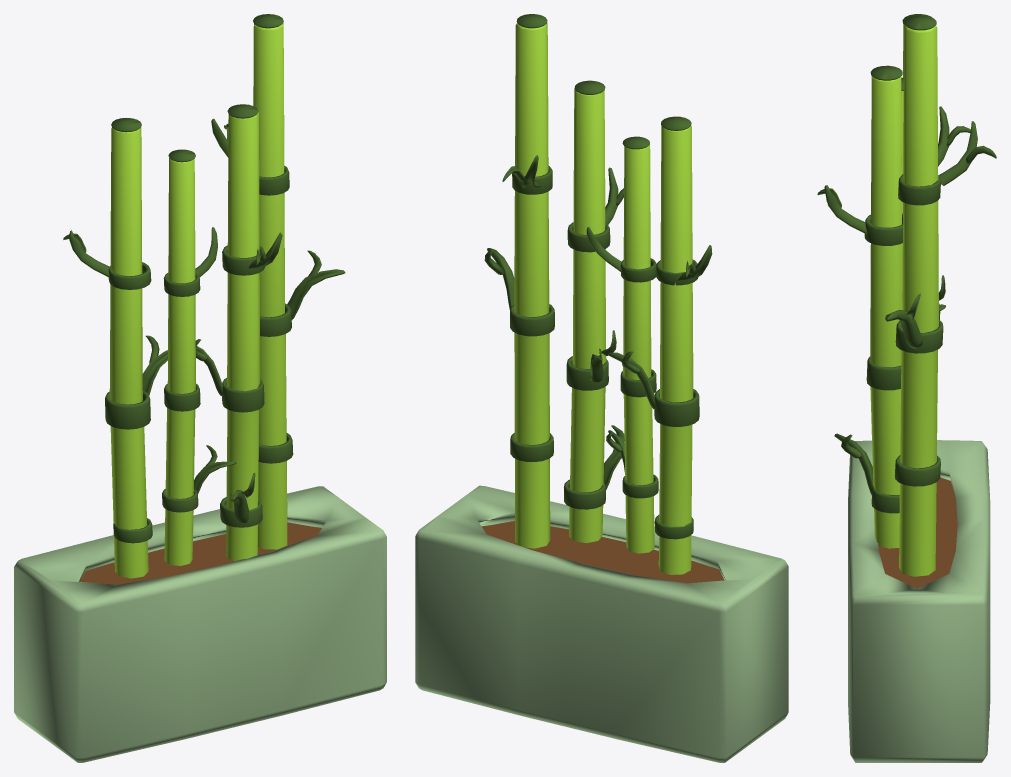
Rendered from SM_Bamboo_low.fbx.
3 renders of one model, left to right at view 1: azimuth 30°, elevation 25°; view 2: azimuth 150°, elevation 25°; view 3: azimuth 270°, elevation 25°, orthographic. The views are drawn at different scales.
Visible parts, largest first — view 1: Cube.011, Cylinder.019, Cylinder.025, Cylinder.031, Cylinder.002, Cylinder.030, Cylinder.018, Cylinder.001, Cylinder.024, Plane.031, Cylinder.006, Cylinder.010 (+7 smaller); view 2: Cube.011, Cylinder.031, Cylinder.019, Cylinder.025, Cylinder.030, Cylinder.002, Cylinder.024, Cylinder.018, Plane.031, Cylinder.001, Cylinder.006, Cylinder.007 (+4 smaller); view 3: Cube.011, Cylinder.031, Cylinder.025, Cylinder.030, Cylinder.024, Plane.031, Cylinder.034, Cylinder.008, Cylinder.010, Cylinder.007, Cylinder.011, Plane.023 (+7 smaller).
Boxes of the visible parts, box(x1,y1,x2,y2) form: Cube.011: box(14, 486, 386, 762); Cylinder.019: box(109, 127, 142, 404); Cylinder.025: box(227, 112, 260, 391); Cylinder.031: box(253, 22, 284, 317); Cylinder.002: box(167, 158, 195, 393); Cylinder.030: box(258, 334, 287, 549); Cylinder.018: box(110, 426, 148, 578); Cylinder.001: box(164, 408, 195, 565); Cylinder.024: box(226, 409, 259, 561); Plane.031: box(80, 522, 321, 584); Cylinder.006: box(105, 390, 150, 429); Cylinder.010: box(222, 378, 264, 412); Cube.011: box(415, 485, 788, 762); Cylinder.031: box(514, 23, 549, 316); Cylinder.019: box(660, 126, 693, 402); Cylinder.025: box(572, 89, 606, 368); Cylinder.030: box(514, 332, 550, 548); Cylinder.002: box(623, 144, 651, 379); Cylinder.024: box(569, 387, 605, 543); Cylinder.018: box(658, 423, 692, 574); Plane.031: box(482, 521, 724, 583); Cylinder.001: box(623, 394, 654, 553); Cylinder.006: box(654, 389, 699, 426); Cylinder.007: box(510, 304, 554, 336); Cube.011: box(848, 440, 990, 762); Cylinder.031: box(902, 24, 938, 332); Cylinder.025: box(870, 76, 902, 367); Cylinder.030: box(899, 349, 937, 576); Cylinder.024: box(870, 386, 900, 548); Plane.031: box(878, 477, 957, 588); Cylinder.034: box(894, 455, 940, 486); Cylinder.008: box(898, 174, 940, 205); Cylinder.010: box(866, 356, 901, 390); Cylinder.007: box(895, 320, 943, 353); Cylinder.011: box(864, 213, 902, 245); Plane.023: box(885, 310, 923, 348).
Bounding box in the file's own units: 90.57 × 186 × 43.16.
